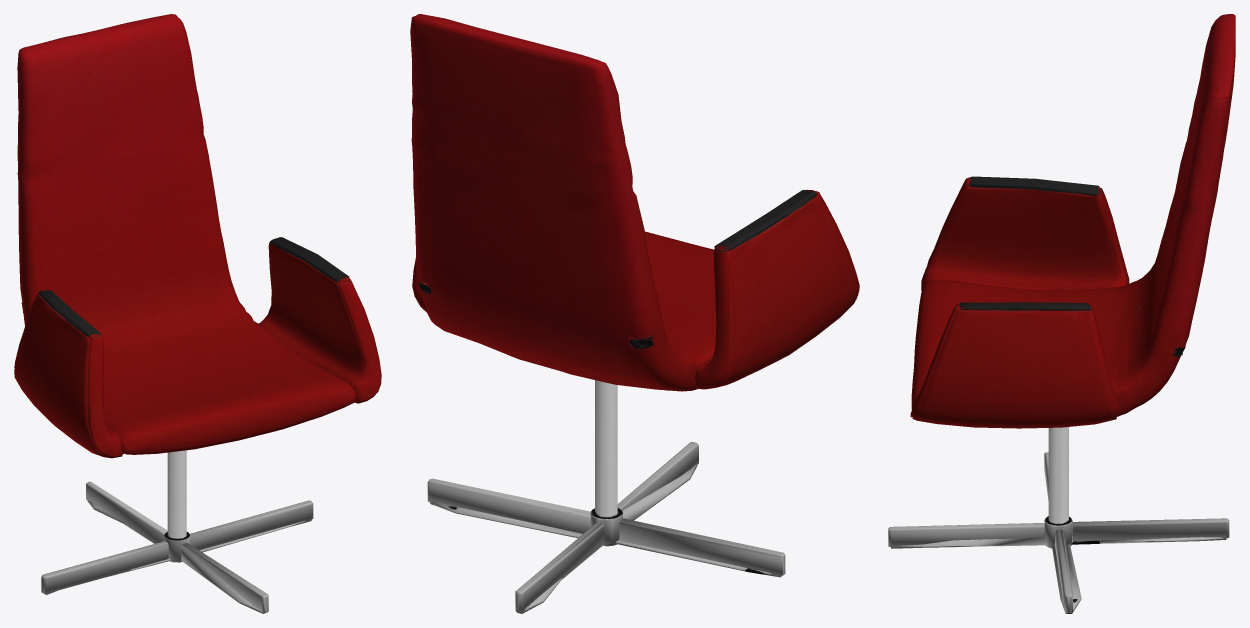
The model's file is office_red.glb.
3 views of the same model, side by side, from view 1: azimuth 30°, elevation 25°; view 2: azimuth 150°, elevation 25°; view 3: azimuth 270°, elevation 25° (orthographic). The views are drawn at different scales.
Parts seen in each view (by area): view 1: tripo_node_4d782785-8c04-46c5-be4d-5614c41f8c10; view 2: tripo_node_4d782785-8c04-46c5-be4d-5614c41f8c10; view 3: tripo_node_4d782785-8c04-46c5-be4d-5614c41f8c10.
Part boxes in pixels (bbox=[...]): tripo_node_4d782785-8c04-46c5-be4d-5614c41f8c10: bbox=[14, 14, 381, 613]; tripo_node_4d782785-8c04-46c5-be4d-5614c41f8c10: bbox=[410, 14, 859, 613]; tripo_node_4d782785-8c04-46c5-be4d-5614c41f8c10: bbox=[888, 14, 1235, 613].
Size of the model in its own units: 0.6504 by 0.998 by 0.6387.
1 material, 1 textured.
